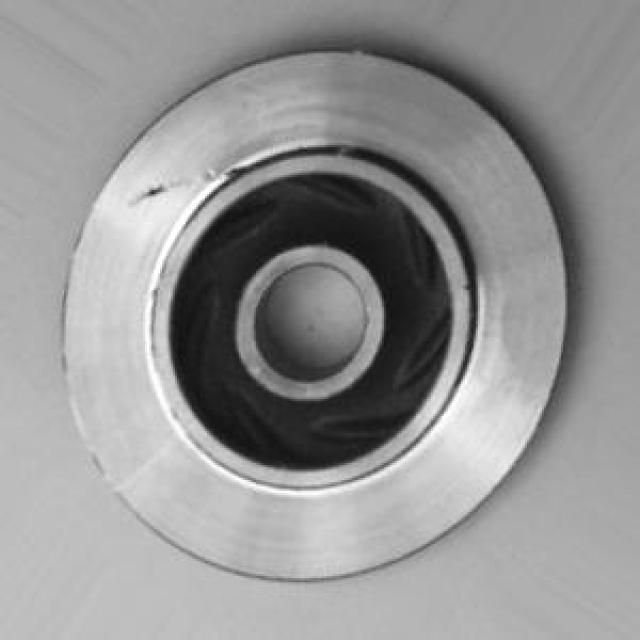Defect: (135, 184, 180, 202)
